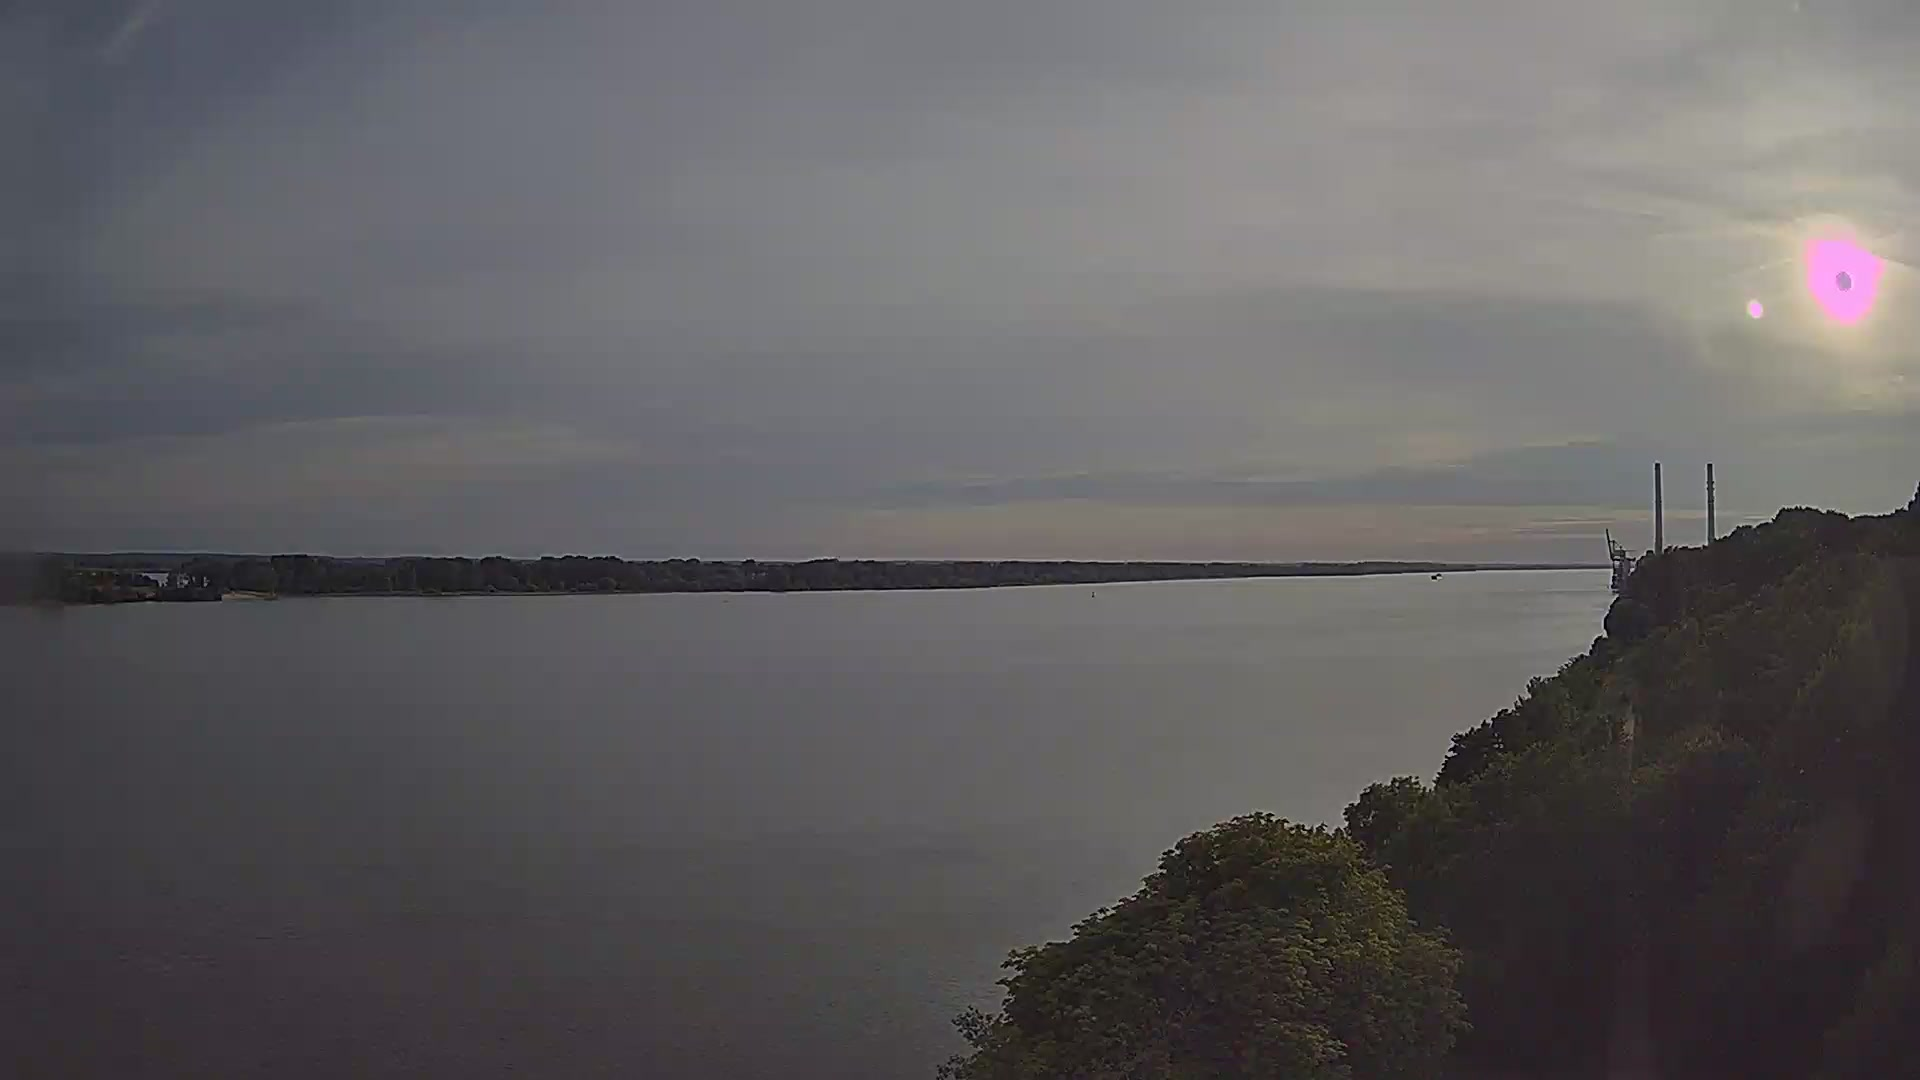sea: (1431, 571, 1443, 579)
